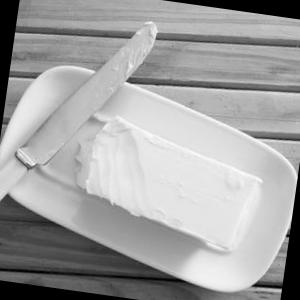butter: (72, 106, 264, 258)
